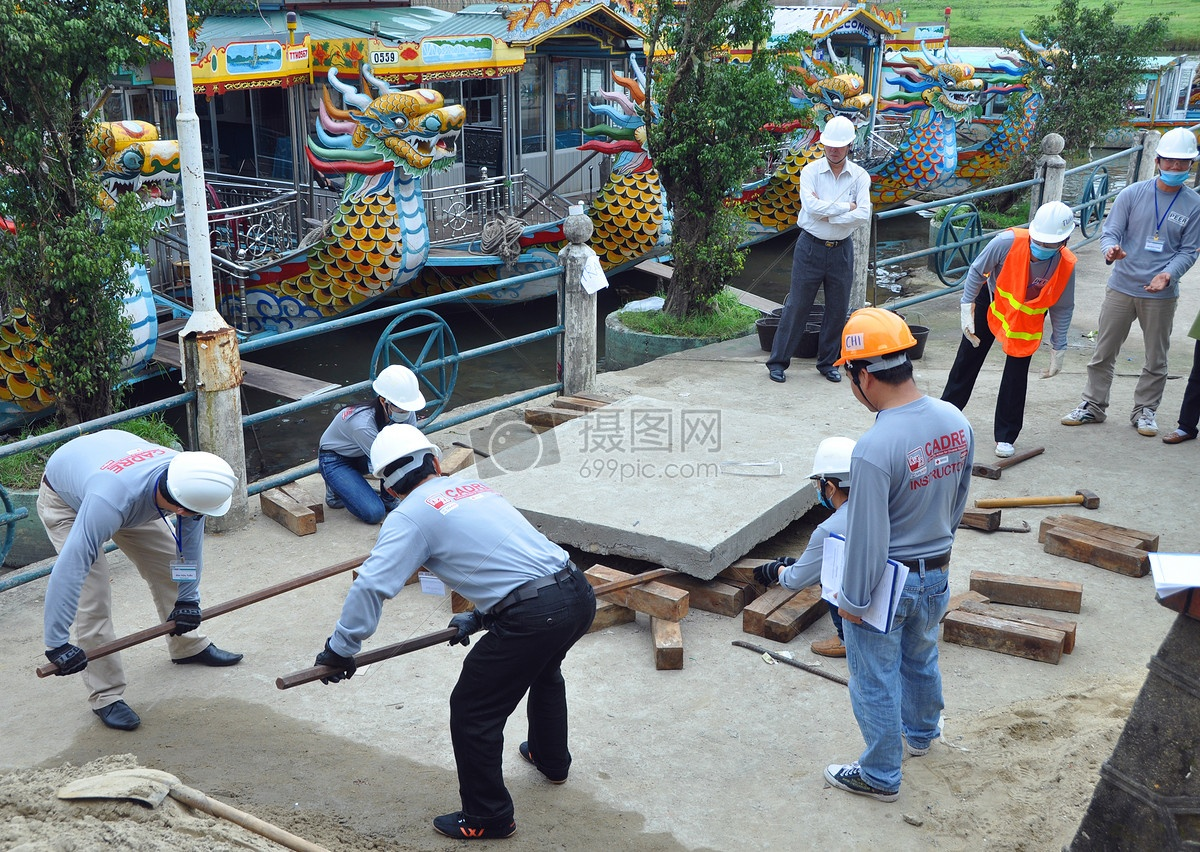white: (365, 419, 443, 499), (162, 448, 234, 522), (807, 434, 857, 510), (370, 365, 425, 427), (1149, 126, 1198, 190), (1025, 200, 1074, 260), (816, 114, 857, 166)
yellow: (835, 304, 921, 404)
